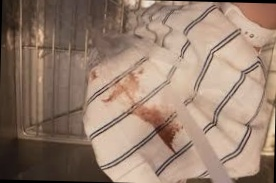wine: (132, 105, 187, 151), (98, 78, 147, 103), (87, 70, 103, 84)
